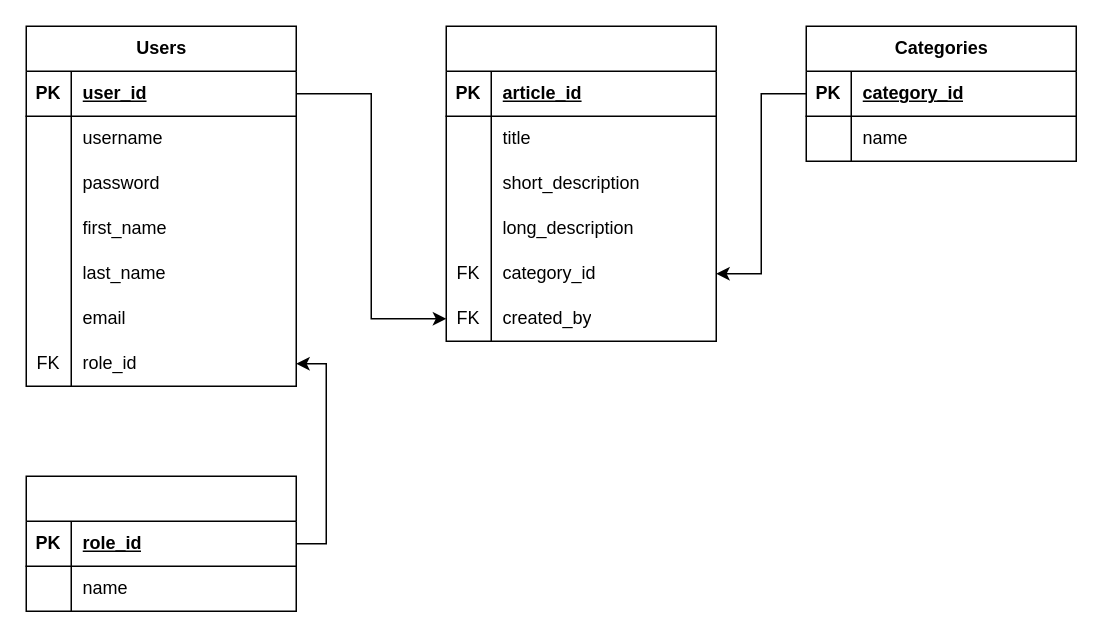
This 1103x638 diagram has some shape labels left out. The shapes that lost their labels are listed below. From the top down, each one's box as (x1, y1, x2, y2) in pixels, then its label:
(445, 25, 716, 341): Articles
(25, 475, 296, 611): Roles
